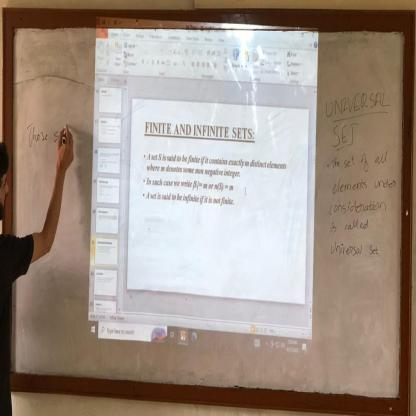Handwritten text: (322, 81, 393, 118), (328, 170, 401, 195), (327, 150, 394, 173), (326, 237, 384, 260), (22, 115, 54, 152), (327, 195, 391, 213), (330, 213, 374, 236), (330, 120, 363, 146)
Whiteboard: (8, 17, 408, 403)
